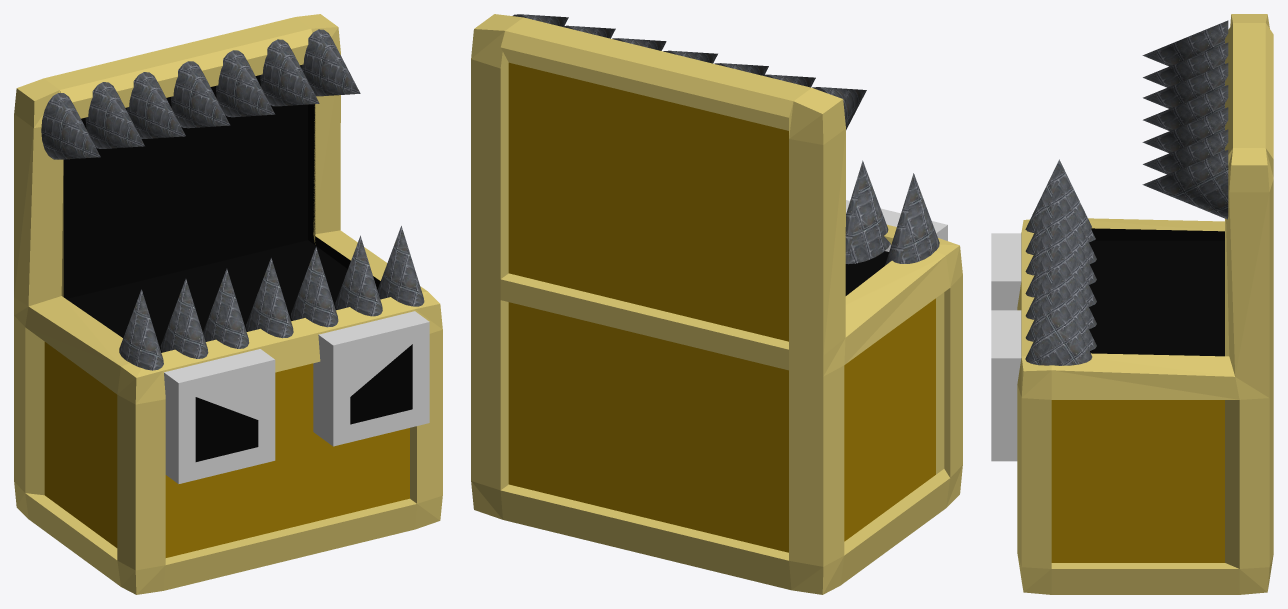
The model's file is Chest_Golden_Mimic.fbx.
3 renders of one model, left to right at view 1: azimuth 30°, elevation 25°; view 2: azimuth 150°, elevation 25°; view 3: azimuth 270°, elevation 25°, orthographic. The views are drawn at different scales.
Parts seen in each view (by area): view 1: pCube18, pCube20, pCube19, pasted__pCone1, pasted__pCone3, pasted__pasted__pasted__pCone1, pasted__pasted__pasted__pCone3, pasted__pasted__pasted__pCone2, pasted__pCone4, pasted__pCone2, pasted__pasted__pasted__pCone6, pasted__pasted__pasted__pCone5 (+5 smaller); view 2: pCube18, pasted__pasted__pasted__pCone4, pasted__pCone5, pasted__pCone1; view 3: pCube18, pCube20, pasted__pCone4, pasted__pCone8, pCube19, pasted__pasted__pasted__pCone2, pasted__pCone1, pasted__pCone3, pasted__pCone2, pasted__pasted__pasted__pCone1, pasted__pasted__pasted__pCone3, pasted__pasted__pasted__pCone5 (+5 smaller).
Boxes of the visible parts, x1=… form: pCube18: x1=14, y1=14, x2=442, y2=594; pCube20: x1=313, y1=311, x2=429, y2=446; pCube19: x1=164, y1=349, x2=275, y2=483; pasted__pCone1: x1=41, y1=93, x2=100, y2=159; pasted__pCone3: x1=216, y1=50, x2=275, y2=117; pasted__pasted__pasted__pCone1: x1=85, y1=82, x2=144, y2=148; pasted__pasted__pasted__pCone3: x1=260, y1=39, x2=319, y2=106; pasted__pasted__pasted__pCone2: x1=171, y1=61, x2=230, y2=128; pasted__pCone4: x1=301, y1=29, x2=360, y2=96; pasted__pCone2: x1=126, y1=72, x2=185, y2=138; pasted__pasted__pasted__pCone6: x1=335, y1=235, x2=382, y2=316; pasted__pasted__pasted__pCone5: x1=246, y1=257, x2=293, y2=338; pCube18: x1=471, y1=14, x2=962, y2=594; pasted__pasted__pasted__pCone4: x1=845, y1=160, x2=890, y2=264; pasted__pCone5: x1=885, y1=173, x2=939, y2=265; pasted__pCone1: x1=812, y1=87, x2=866, y2=129; pCube18: x1=1017, y1=14, x2=1273, y2=594; pCube20: x1=991, y1=310, x2=1021, y2=461; pasted__pCone4: x1=1142, y1=150, x2=1228, y2=219; pasted__pCone8: x1=1025, y1=289, x2=1092, y2=365; pCube19: x1=991, y1=233, x2=1021, y2=310; pasted__pasted__pasted__pCone2: x1=1143, y1=85, x2=1228, y2=130; pasted__pCone1: x1=1142, y1=20, x2=1228, y2=66; pasted__pCone3: x1=1142, y1=107, x2=1228, y2=153; pasted__pCone2: x1=1143, y1=63, x2=1228, y2=108; pasted__pasted__pasted__pCone1: x1=1143, y1=42, x2=1228, y2=87; pasted__pasted__pasted__pCone3: x1=1143, y1=129, x2=1228, y2=174; pasted__pasted__pasted__pCone5: x1=1025, y1=224, x2=1096, y2=306.
Bounding box in the file's own units: 16.28 × 21.21 × 12.43.
